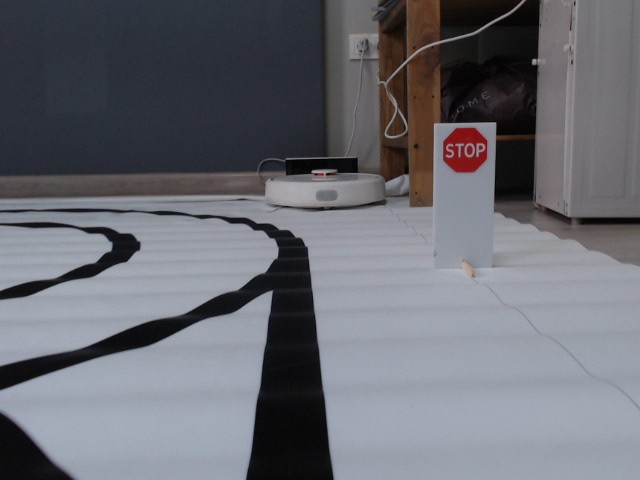Stop: (441, 126, 490, 176)
